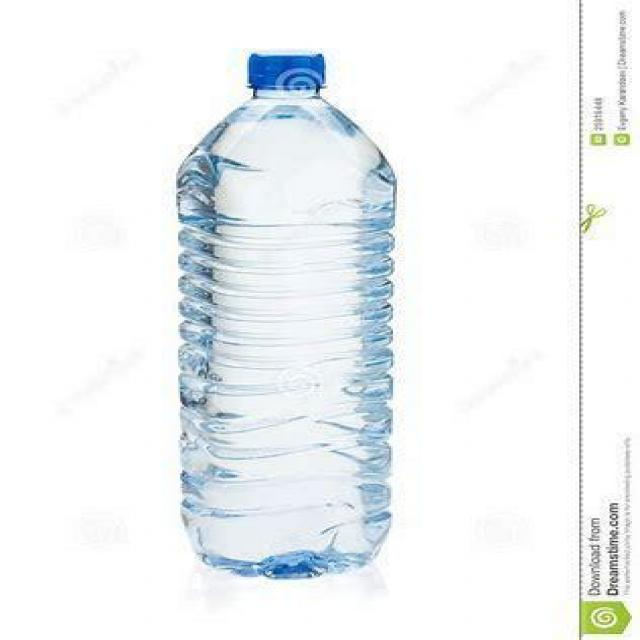bottle: (168, 46, 401, 598)
